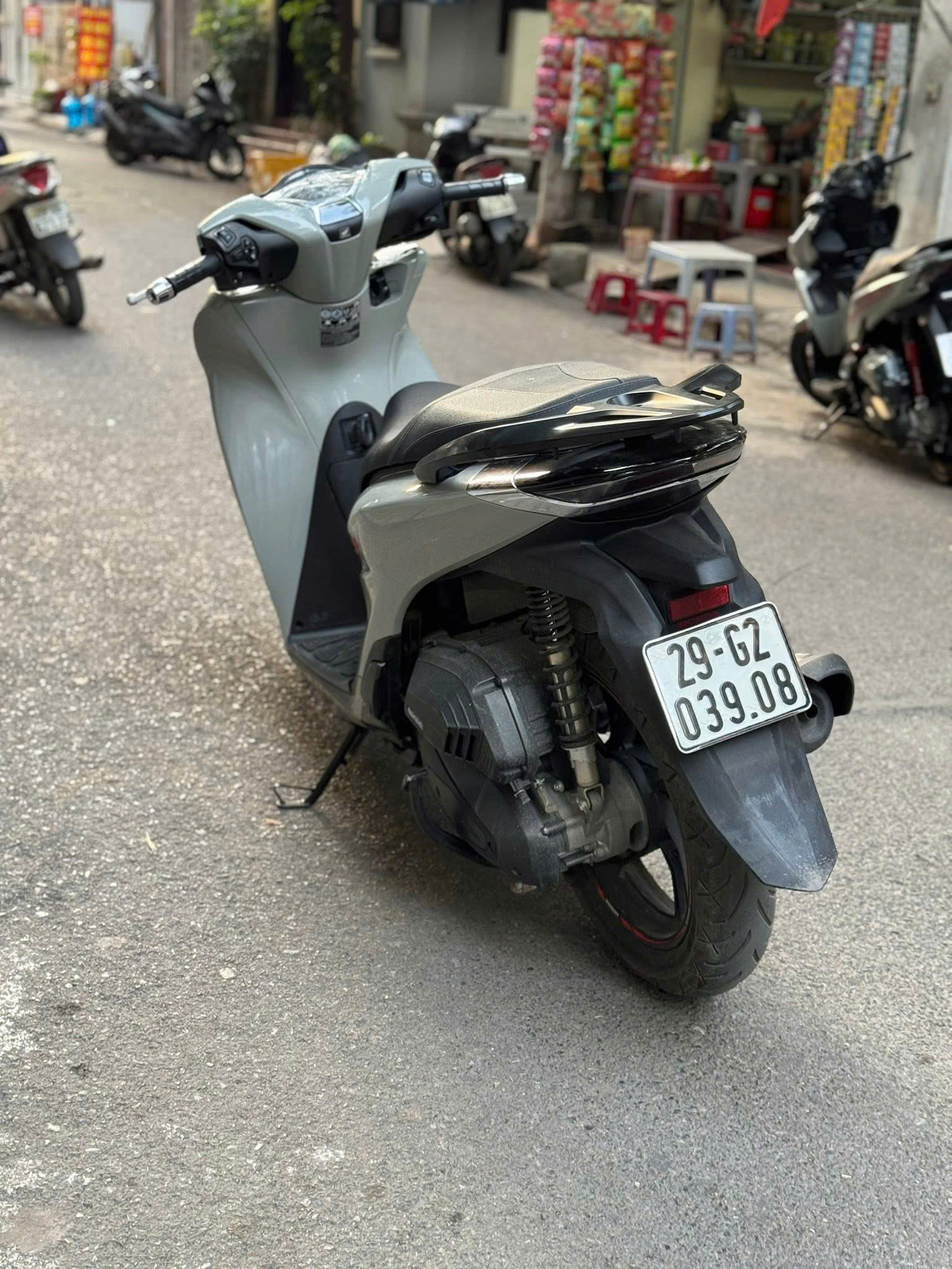Bien-so: (640, 599, 806, 747)
